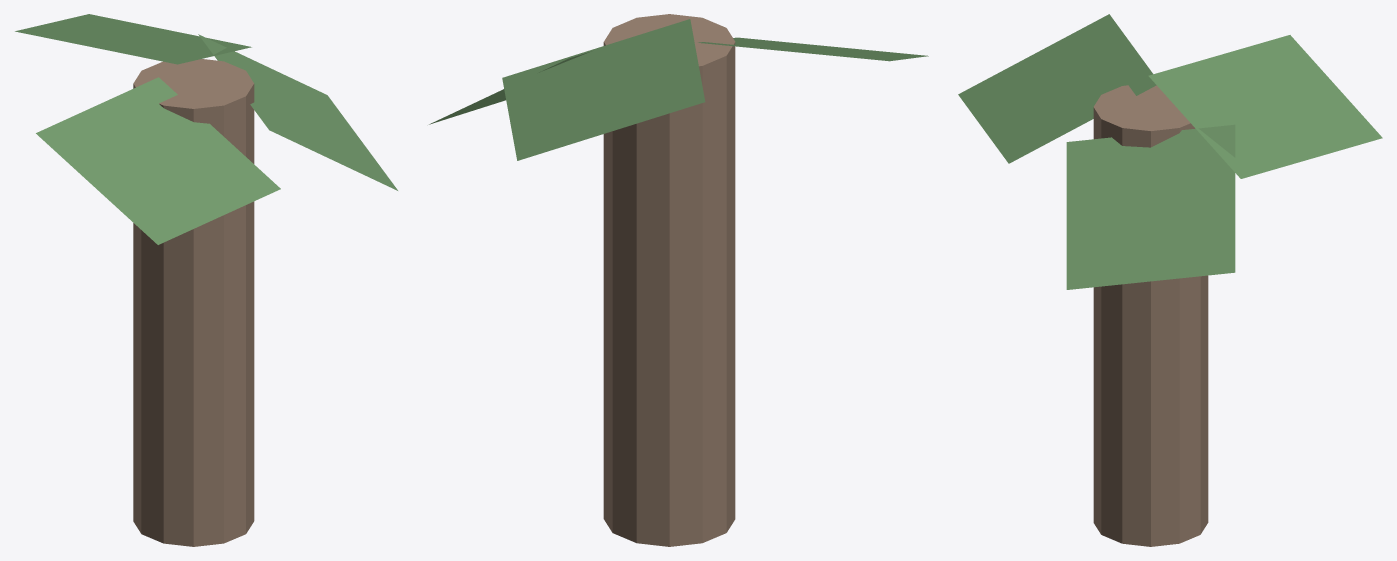
The model's file is oak_sapling.glb.
3 views of the same model, side by side, from view 1: azimuth 30°, elevation 25°; view 2: azimuth 150°, elevation 25°; view 3: azimuth 270°, elevation 25° (orthographic). The views are drawn at different scales.
Visible parts, largest first — view 1: Oak_Sapling_Trunk, Oak_Sapling_Leaf_3, Oak_Sapling_Leaf_2, Oak_Sapling_Leaf_1; view 2: Oak_Sapling_Trunk, Oak_Sapling_Leaf_1, Oak_Sapling_Leaf_3, Oak_Sapling_Leaf_2; view 3: Oak_Sapling_Trunk, Oak_Sapling_Leaf_2, Oak_Sapling_Leaf_1, Oak_Sapling_Leaf_3.
Part boxes in pixels (x1,y1,x2,y2): Oak_Sapling_Trunk: [133, 59, 254, 546]; Oak_Sapling_Leaf_3: [36, 77, 280, 244]; Oak_Sapling_Leaf_2: [198, 34, 397, 190]; Oak_Sapling_Leaf_1: [15, 14, 251, 64]; Oak_Sapling_Trunk: [603, 14, 735, 546]; Oak_Sapling_Leaf_1: [502, 19, 705, 160]; Oak_Sapling_Leaf_3: [698, 37, 928, 61]; Oak_Sapling_Leaf_2: [429, 51, 591, 124]; Oak_Sapling_Trunk: [1093, 85, 1208, 546]; Oak_Sapling_Leaf_2: [1066, 124, 1235, 289]; Oak_Sapling_Leaf_1: [1148, 35, 1382, 178]; Oak_Sapling_Leaf_3: [958, 14, 1156, 163].
Bounding box in the file's own units: 0.3424 × 0.4222 × 0.3705.
